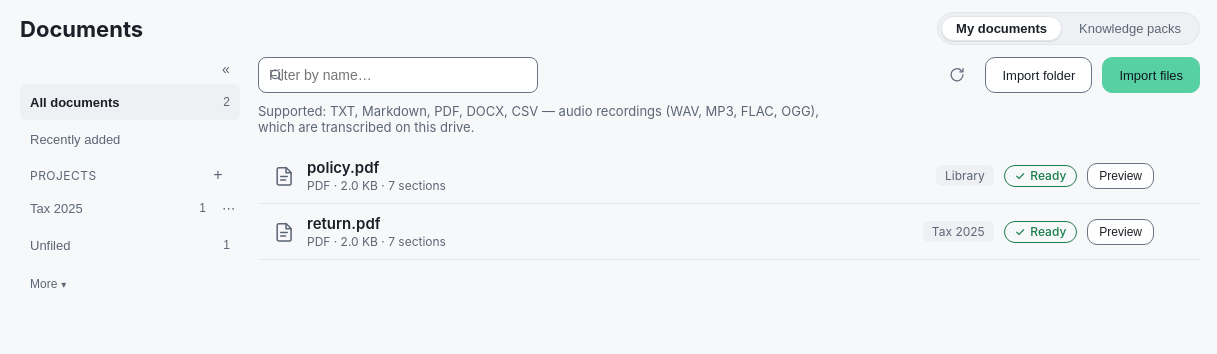
Scenario: DocumentsScreen — organization › renders the section rail and filters the list by the selected project
Expected: the button "Tax 2025 1" is shown, [20,190,216,226]
Click the button "More ▾" at (130, 284), box [20,268,240,300]
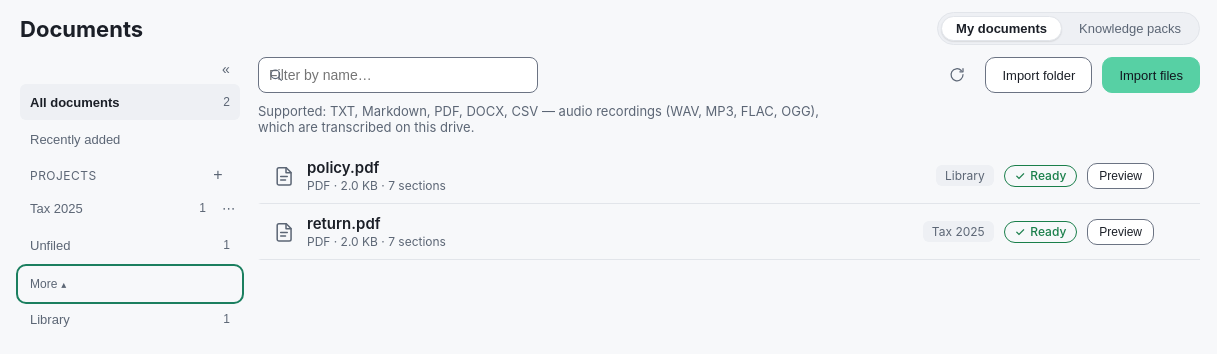
Expected: the text "policy.pdf" is shown, [307,158,379,176]
Now the button "Library 1" is shown, box [20,301,240,337]
Click the button "Tax 2025 1" at (118, 208), box [20,190,216,226]
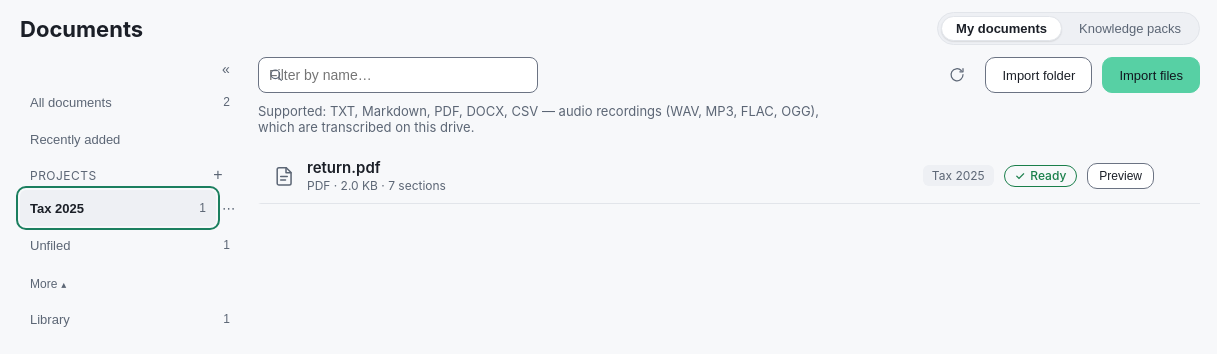
Expected: the text "return.pdf" is shown, [307,158,381,176]
Now the text "policy.pdf" is gone
